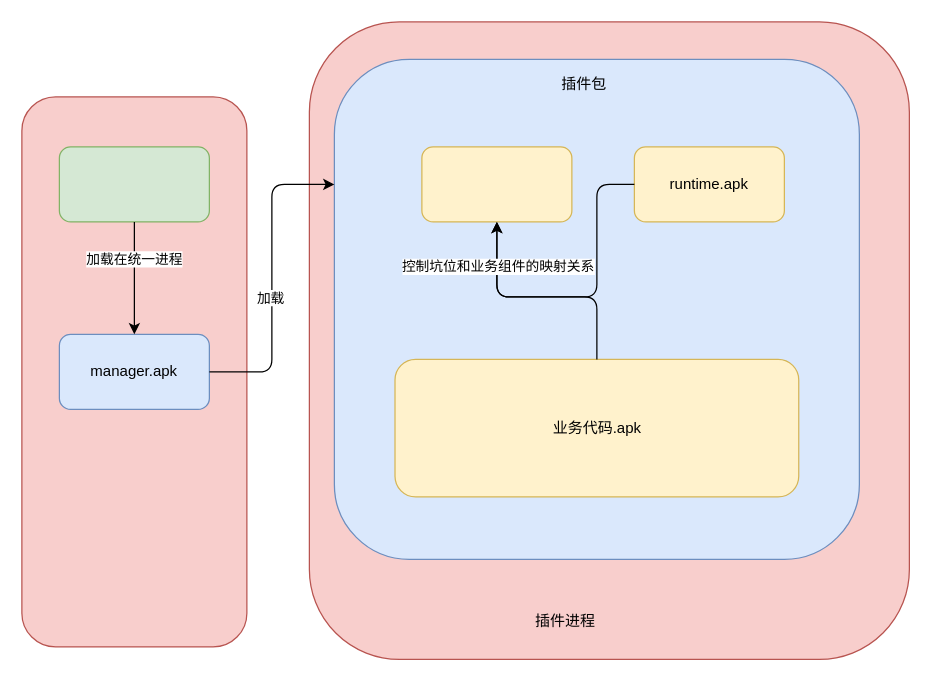
The diagram is 931 pixels wide and 681 high, and some of its shapes have lost their labels. The shapes that lost their labels are listed below. From the top down, each one's centre as x and y in pixels, then its label:
At [133,184]: "宿主".
At [496,184]: "loader.apk".
